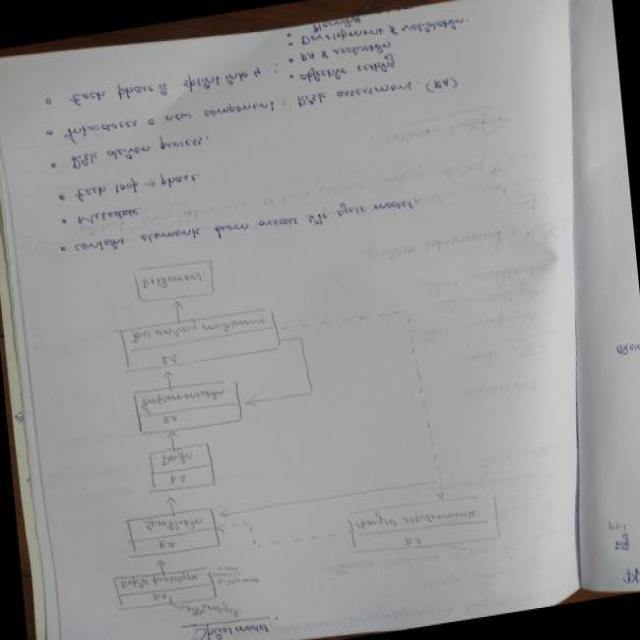Figure Detection - v3 Dataset Version2: (69, 216, 502, 639)
